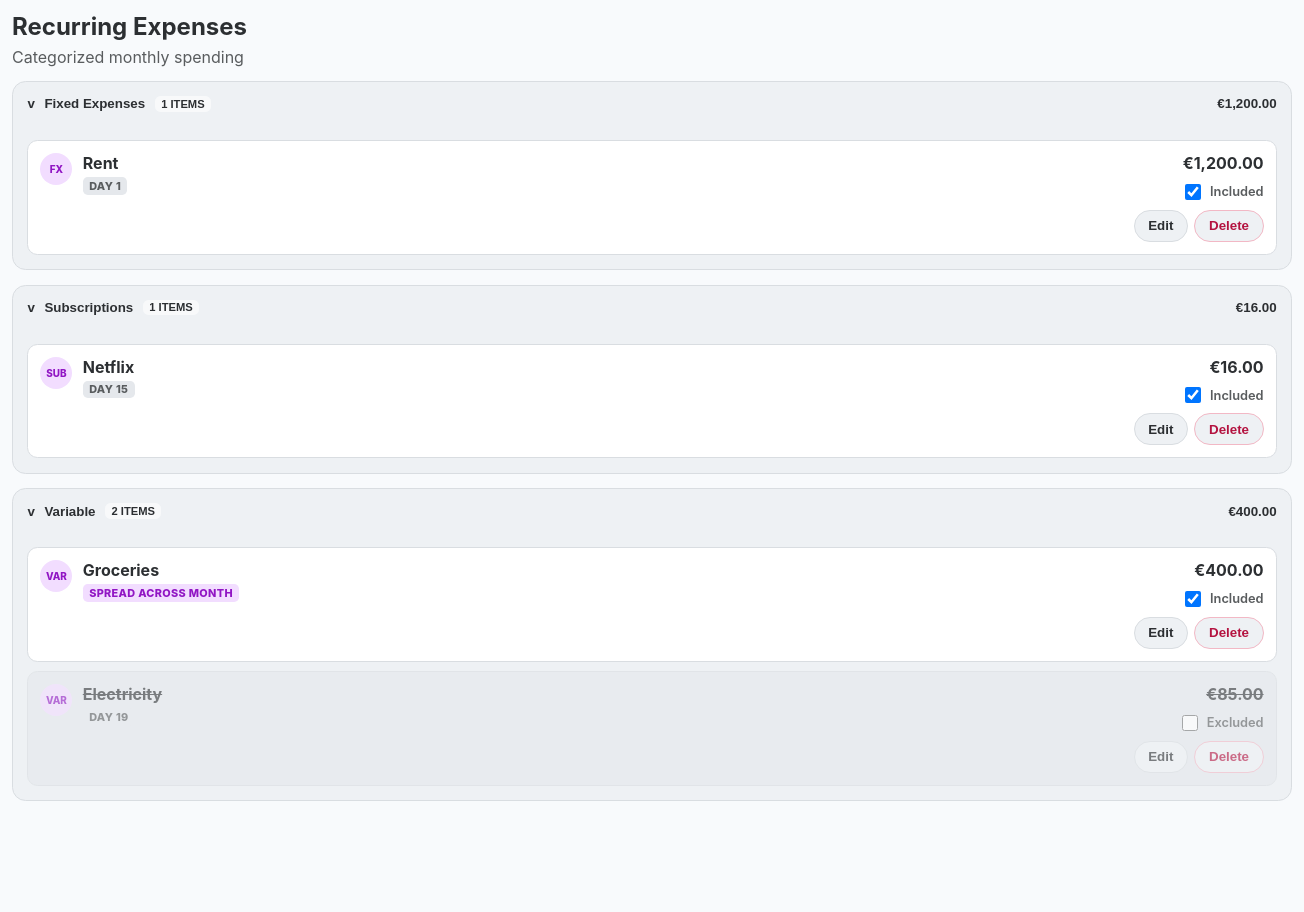
ExpenseList › enters inline edit mode on edit click
Click the button with test id "edit-expense-fixed-1".
click(1161, 226)  # box 1134,210 -> 1188,242
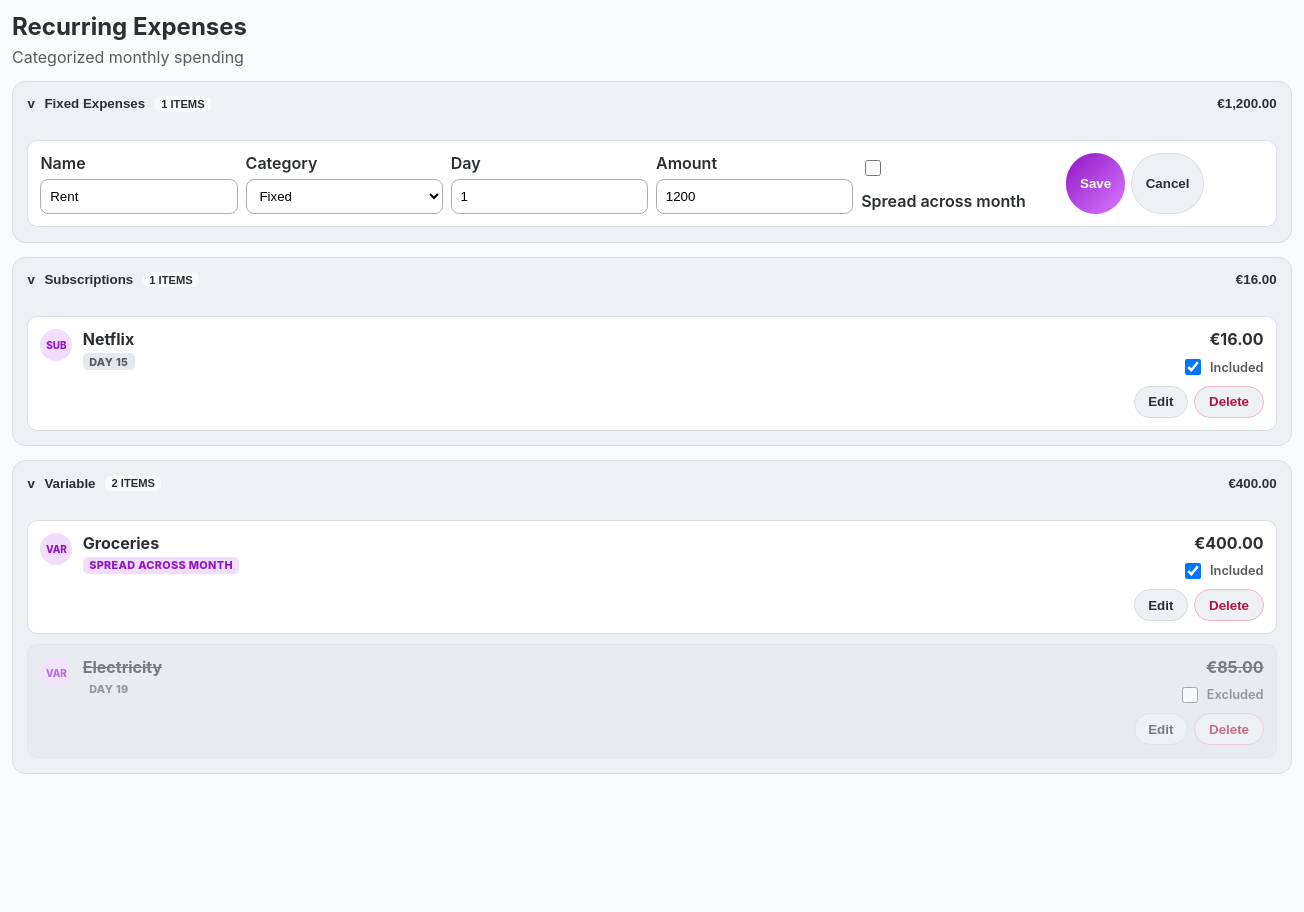
Expected: the field with test id "edit-name-fixed-1" is shown, 40,179 -> 238,214
Expected: the number field with test id "edit-amount-fixed-1" is shown, 656,179 -> 853,214
